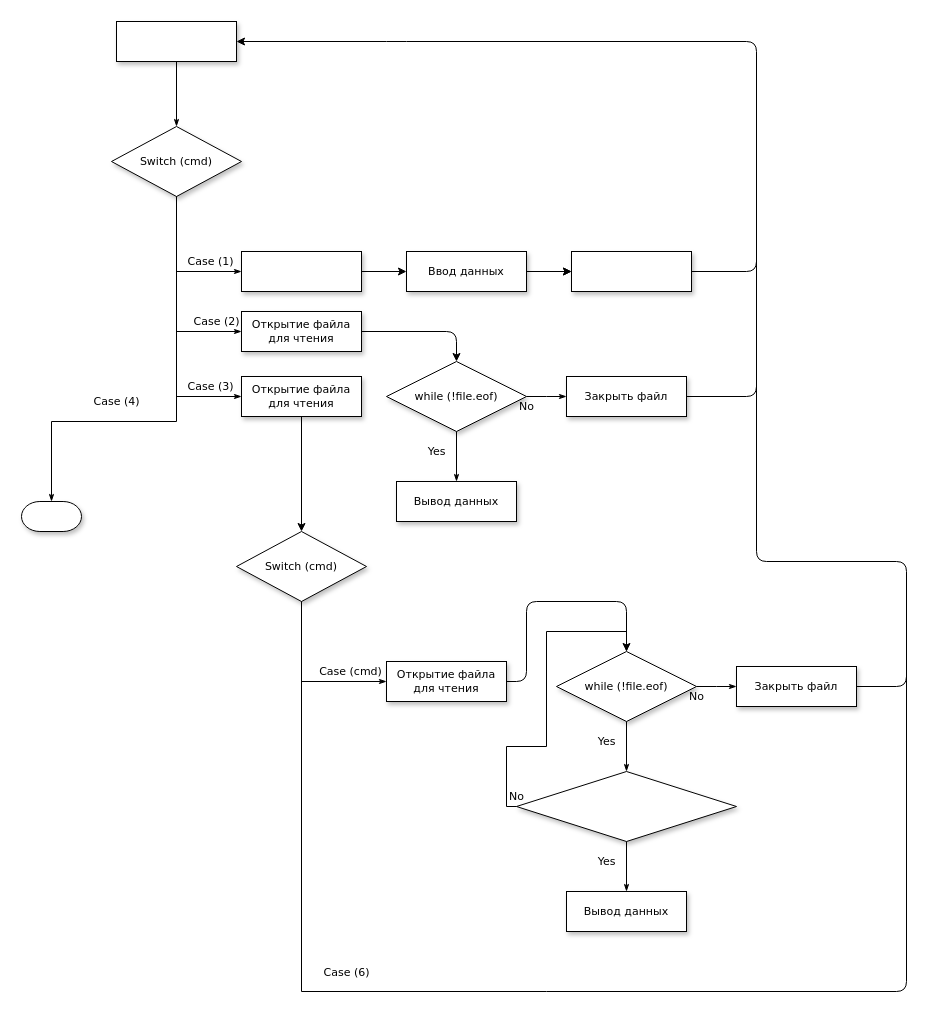
The diagram is 925 pixels wide and 1010 high, and some of its shapes have lost their labels. The centre of each missing label's shape, as x and y in pixels:
"End" goes at (x=52, y=517).
"strcmp(inputStr, film.search) == 0" goes at (x=627, y=807).
"Запись в файл" goes at (x=632, y=272).
"Меню" goes at (x=177, y=42).
"Открытие файла для записи" goes at (x=302, y=272).
